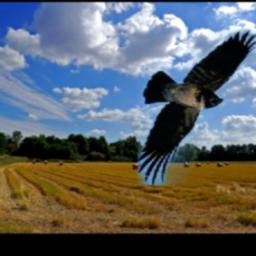Crow: (138, 30, 256, 186)
